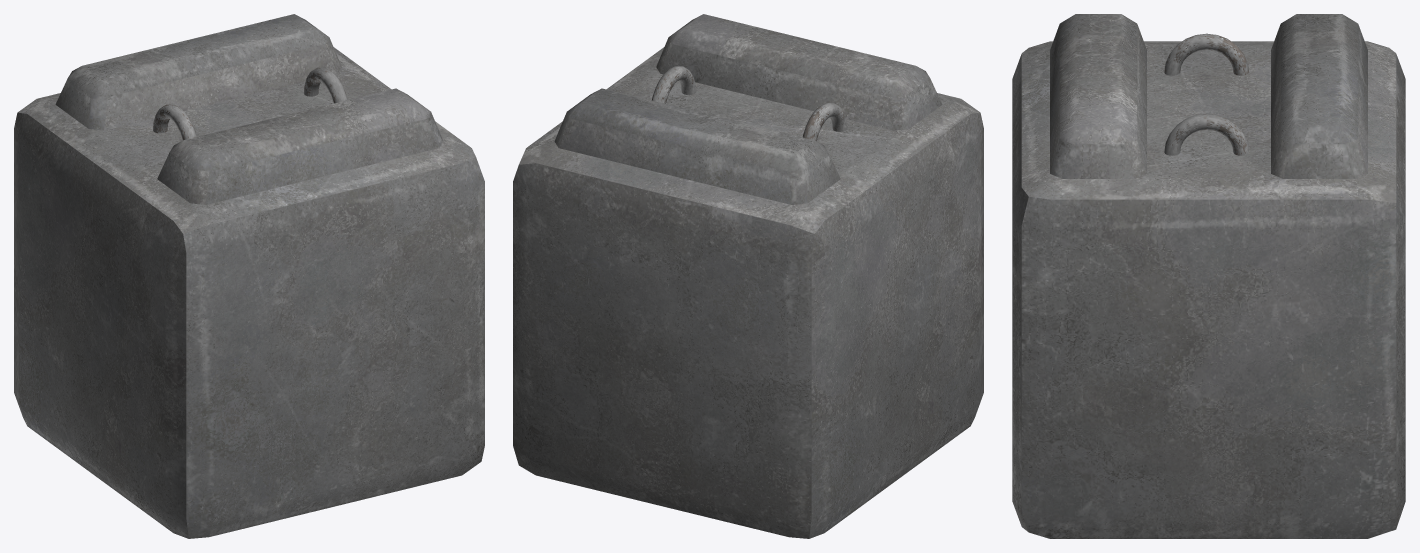
Rendered from Barrier_block_1.obj.
3 renders of one model, left to right at view 1: azimuth 30°, elevation 25°; view 2: azimuth 150°, elevation 25°; view 3: azimuth 270°, elevation 25°, orthographic. The views are drawn at different scales.
Visible parts, largest first — view 1: Box002; view 2: Box002; view 3: Box002.
Boxes of the visible parts, x1,y1,x2,y2 form: Box002: [14, 14, 484, 538]; Box002: [513, 14, 983, 538]; Box002: [1012, 14, 1405, 538].
Size of the model in its own units: 30 by 33.3 by 30.
